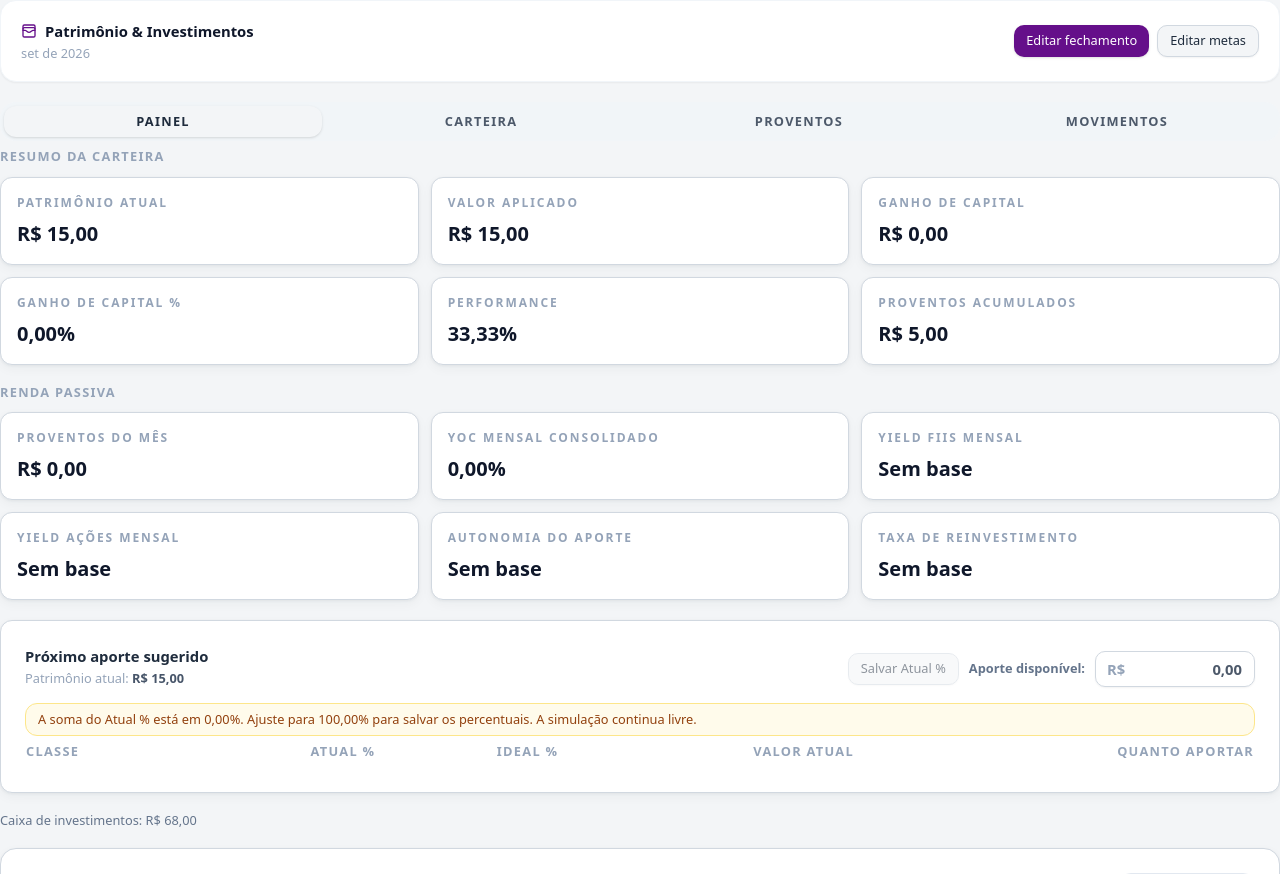
Test: InvestmentsView › disables movement actions when no cash account is available
Click the tab "Movimentos" at coordinates (1117, 122), box left=958, top=106, right=1276, bottom=137
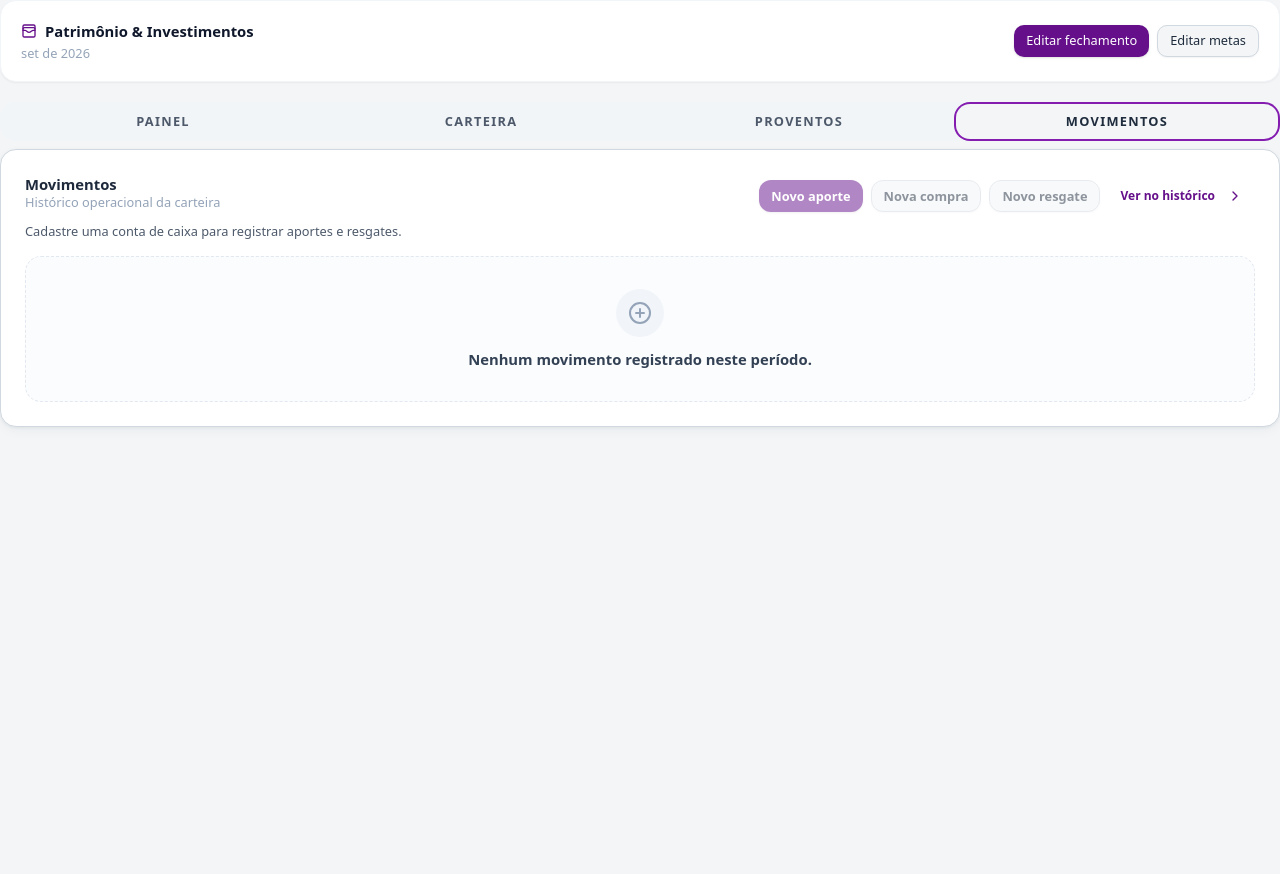
Check: the button "Novo aporte" is disabled, box left=759, top=180, right=863, bottom=212
Check: the button "Novo resgate" is disabled, box left=990, top=180, right=1100, bottom=212
Check: the text "Cadastre uma conta de caixa para registrar aportes e resgates" is shown, box left=25, top=222, right=402, bottom=240
